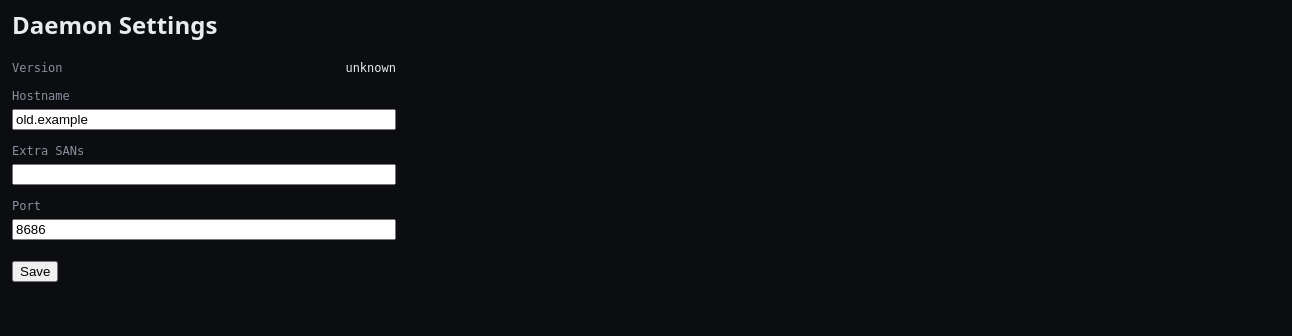
Test: daemon panel surfaces validation errors
This screenshot has width=1292, height=336.
Replace the text in the field showing "old.example" with "dotless" at (204, 119), box [12,109,396,130]
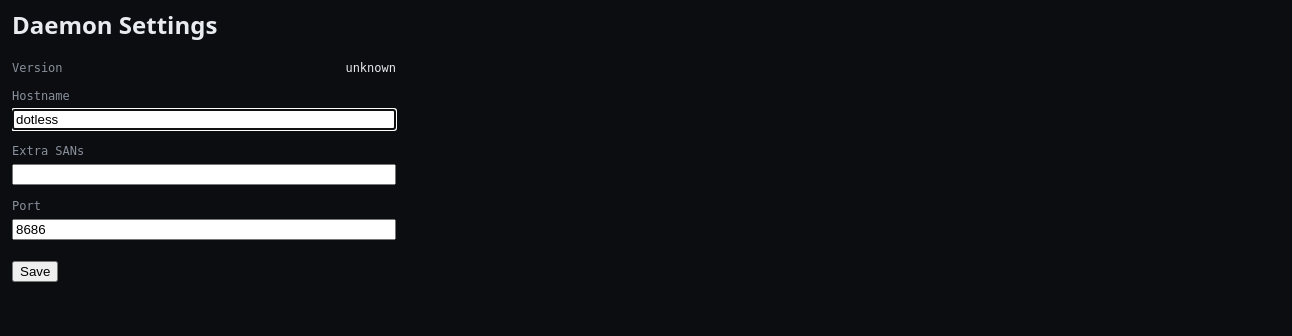
Click the button "Save".
click(35, 272)  # box [12,261,58,282]
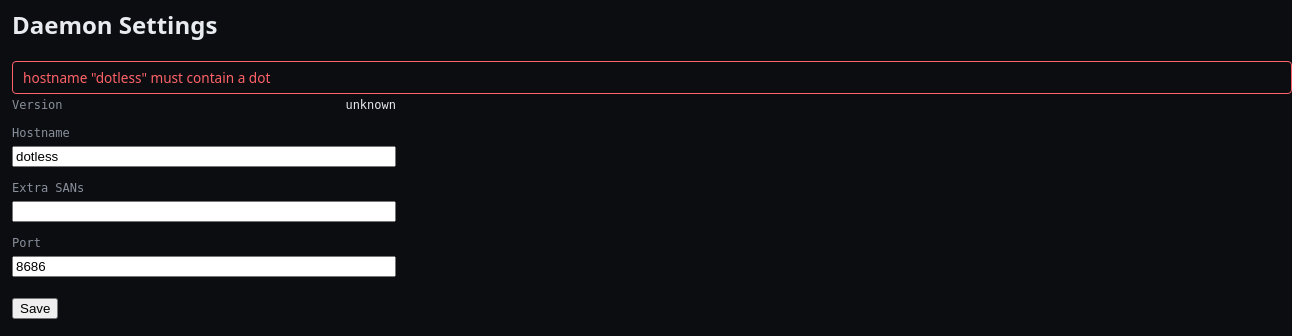
expect the text "hostname \"dotless\" must contain a dot" is shown: met, box [12,61,1291,94]
